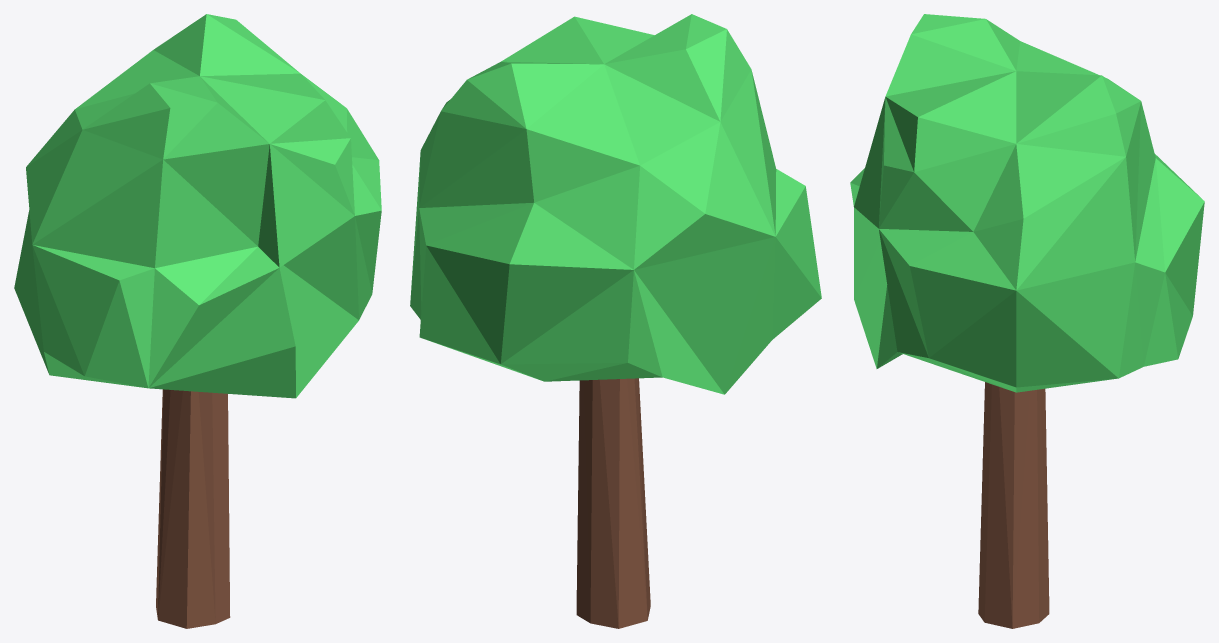
Rendered from Low Poly D-Tree.fbx.
3 views of the same model, side by side, from view 1: azimuth 30°, elevation 25°; view 2: azimuth 150°, elevation 25°; view 3: azimuth 270°, elevation 25° (orthographic). The views are drawn at different scales.
Visible parts, largest first — view 1: Cube; view 2: Cube; view 3: Cube.
Boxes of the visible parts, box(x1,y1,x2,y2) form: Cube: box(14, 14, 381, 628); Cube: box(410, 14, 821, 628); Cube: box(850, 14, 1204, 628).
Size of the model in its own units: 405 by 618 by 352.
